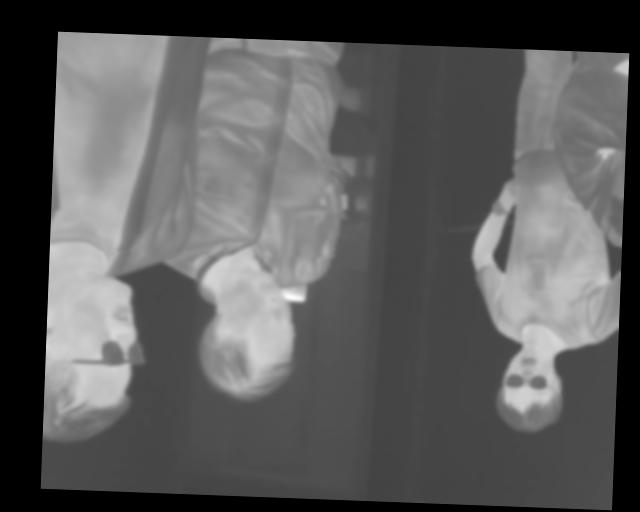face: (42, 275, 144, 446), (194, 269, 299, 402), (495, 342, 565, 435)
